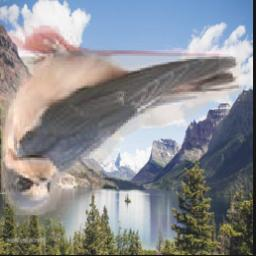Swallow: (1, 25, 243, 217)
